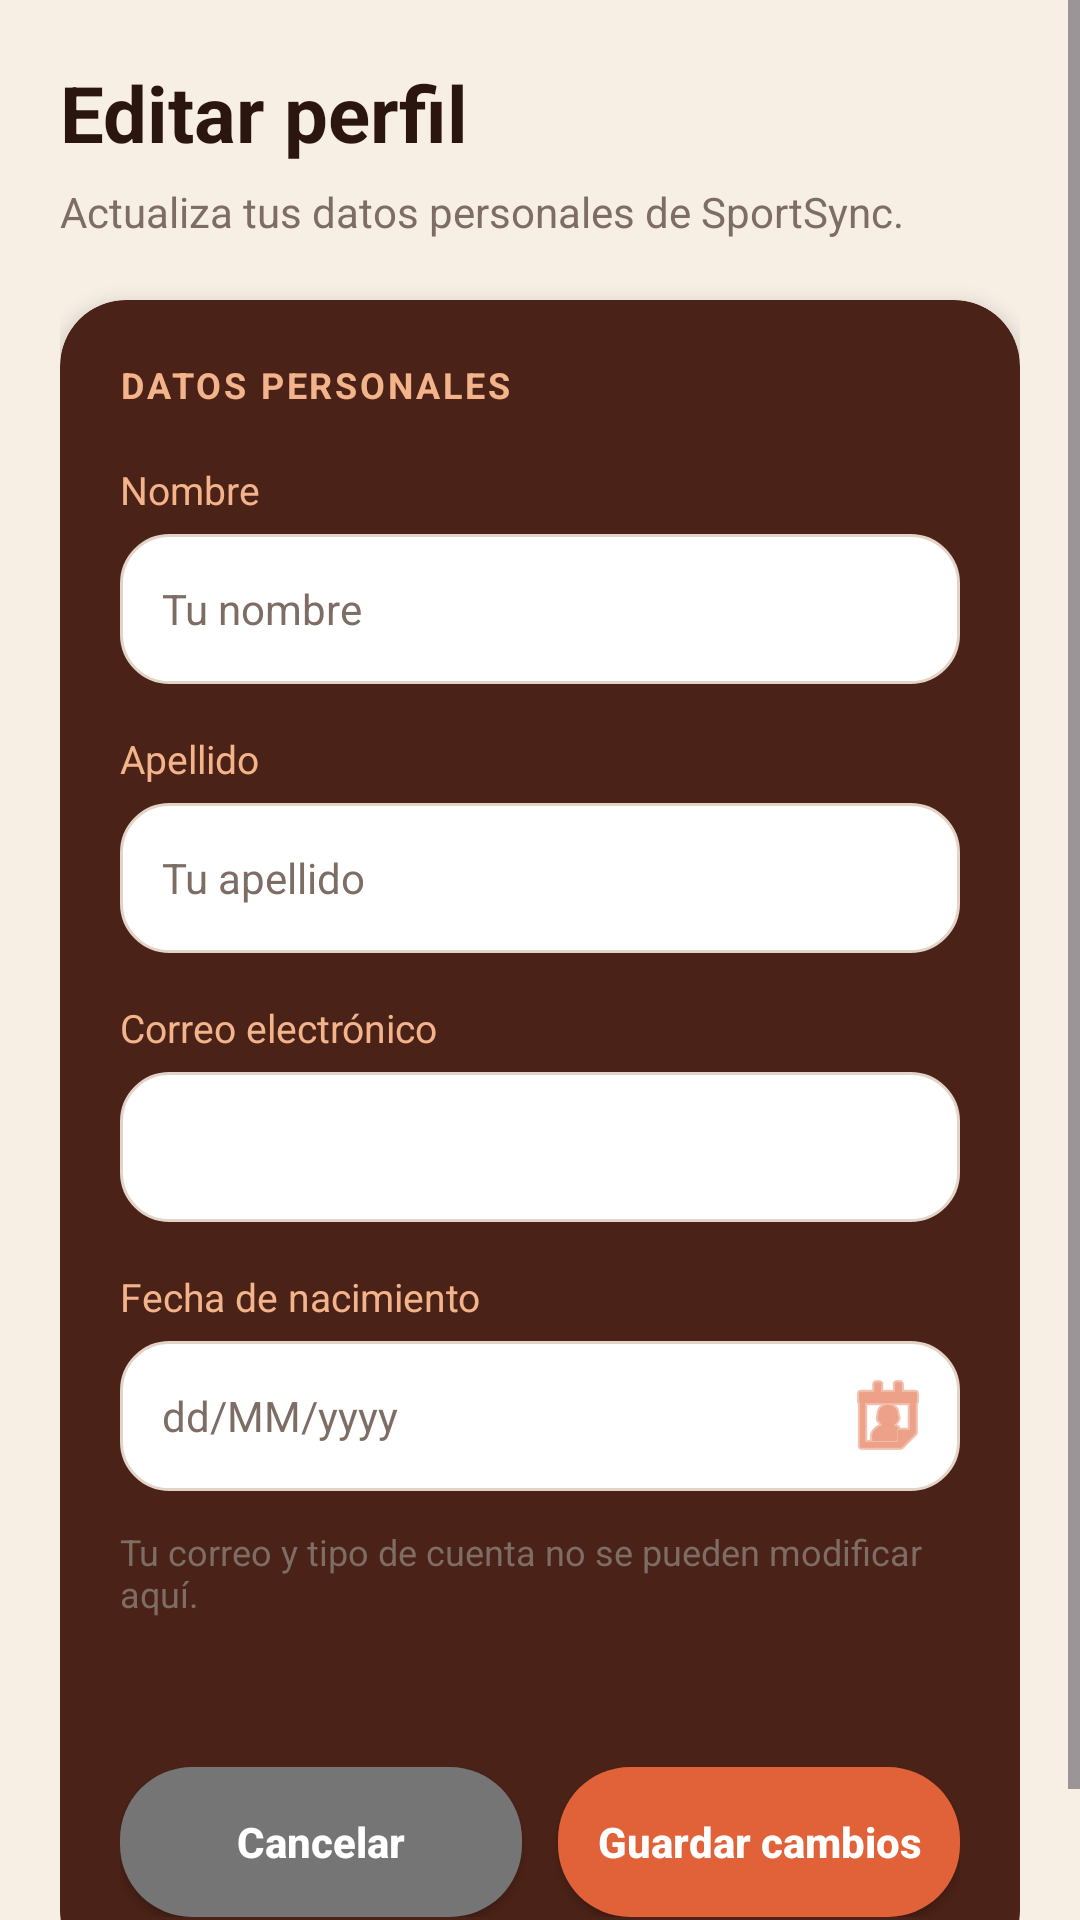

Icons on this 1080x1920 Android screen, each with the point to tap as [x,y]:
Seleccionar fecha: [888,1416]
